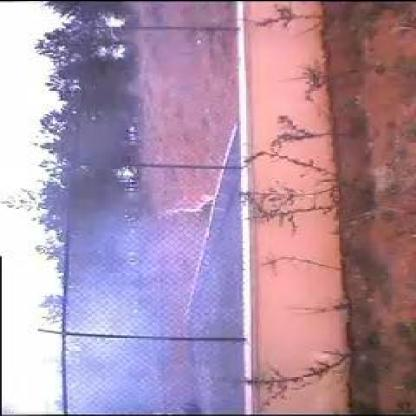-: (63, 211, 249, 377)
